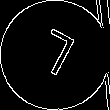L_SW: (30, 26, 80, 84)
